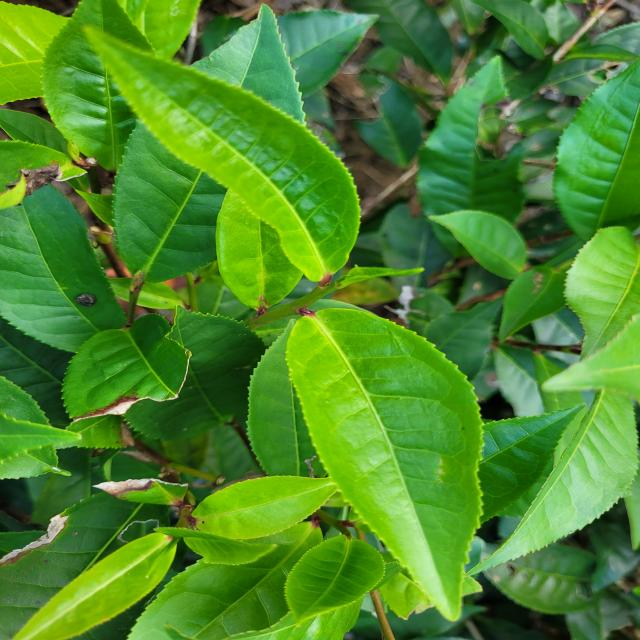Catagory A(1-2 days): (70, 14, 372, 290)
